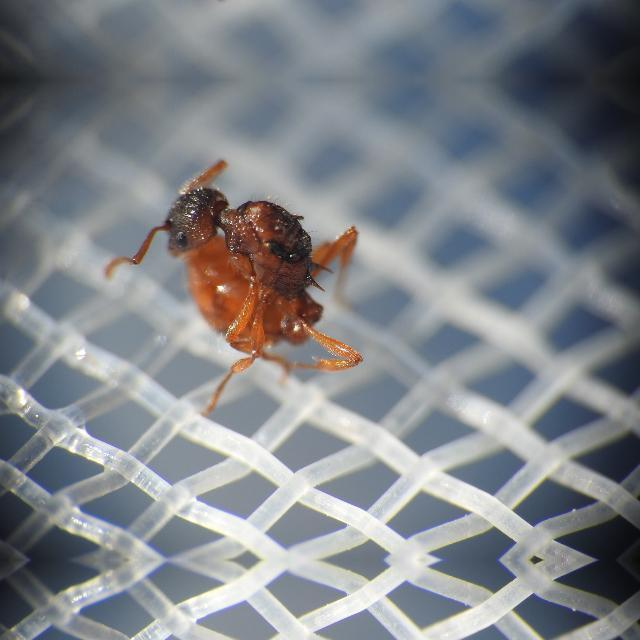Myrmica: (121, 156, 386, 400)
